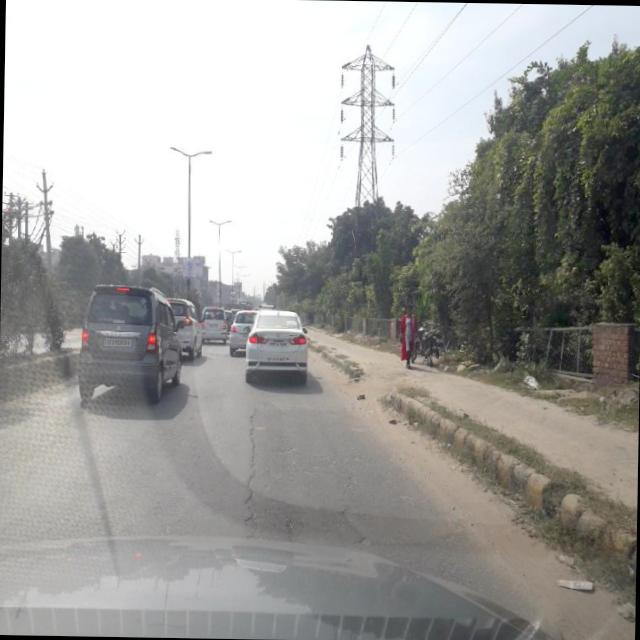pothole: (235, 392, 278, 538), (330, 496, 376, 542)
